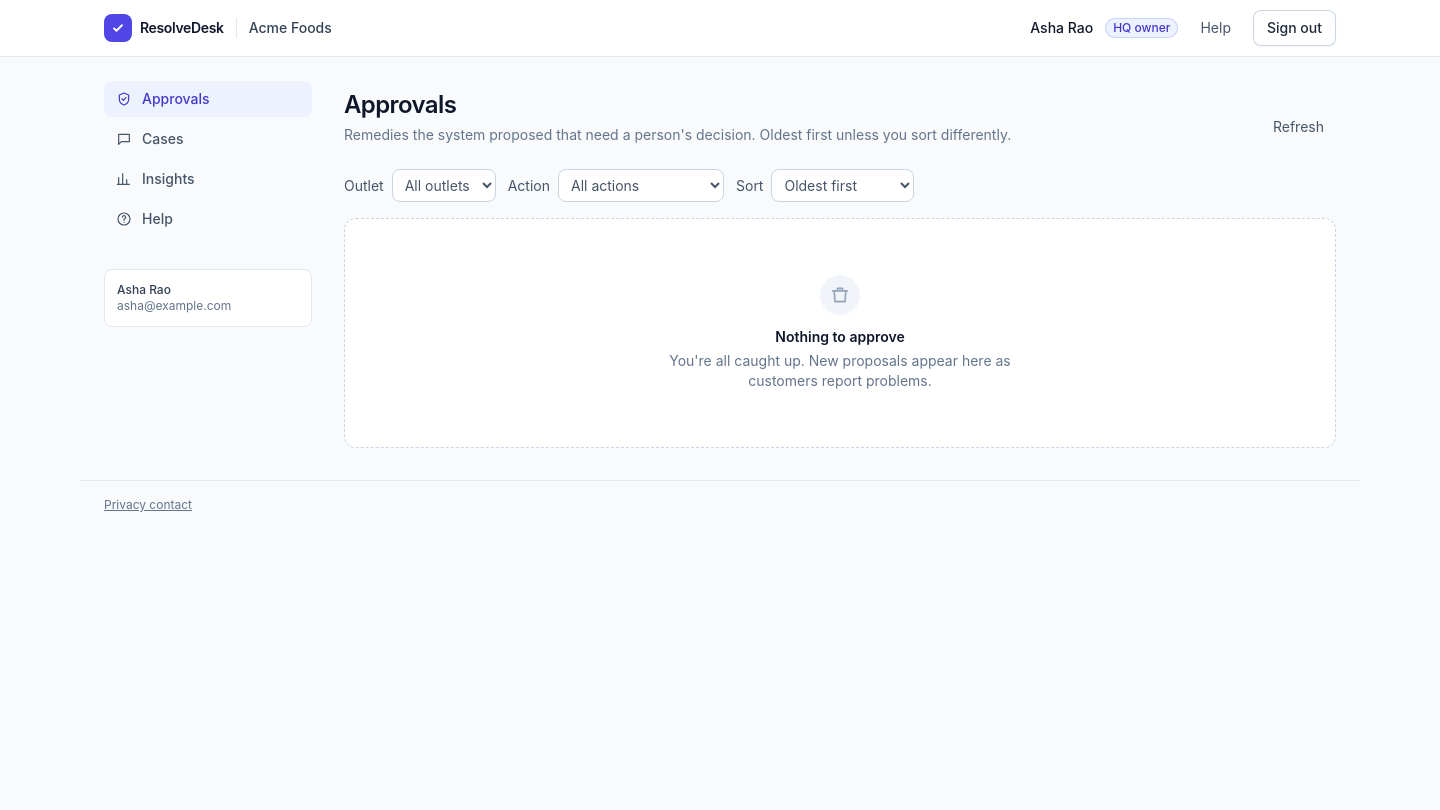
role-based navigation › shows business, user and role in the top bar and signs out
Expected: the text with test id "business-name" reads "Acme Foods", [249,19,332,36]
Expected: the text "Asha Rao" next to "HQ owner" is shown, [1030,19,1093,36]
Click the button "Sign out": (1294, 28) [1253,10,1336,46]
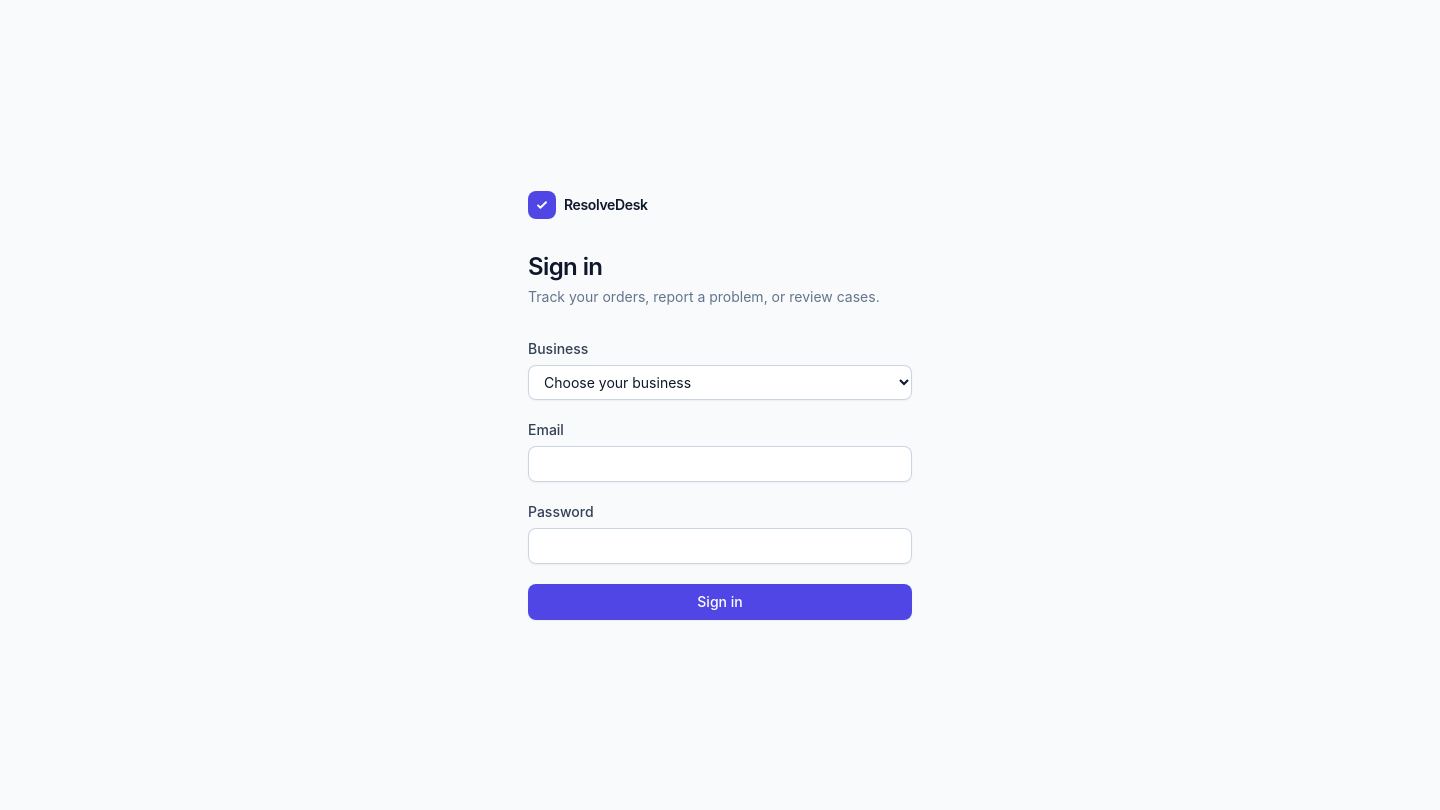
Expected: the heading "Sign in" is shown, [528,252,602,280]
